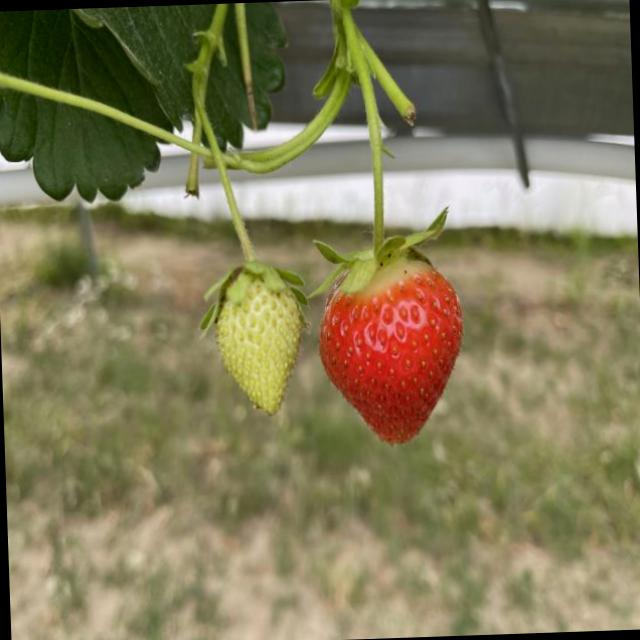stem: (186, 3, 302, 289), (340, 47, 446, 293)
strawberryNR: (216, 278, 303, 414)
strawberryR: (319, 259, 462, 442)
